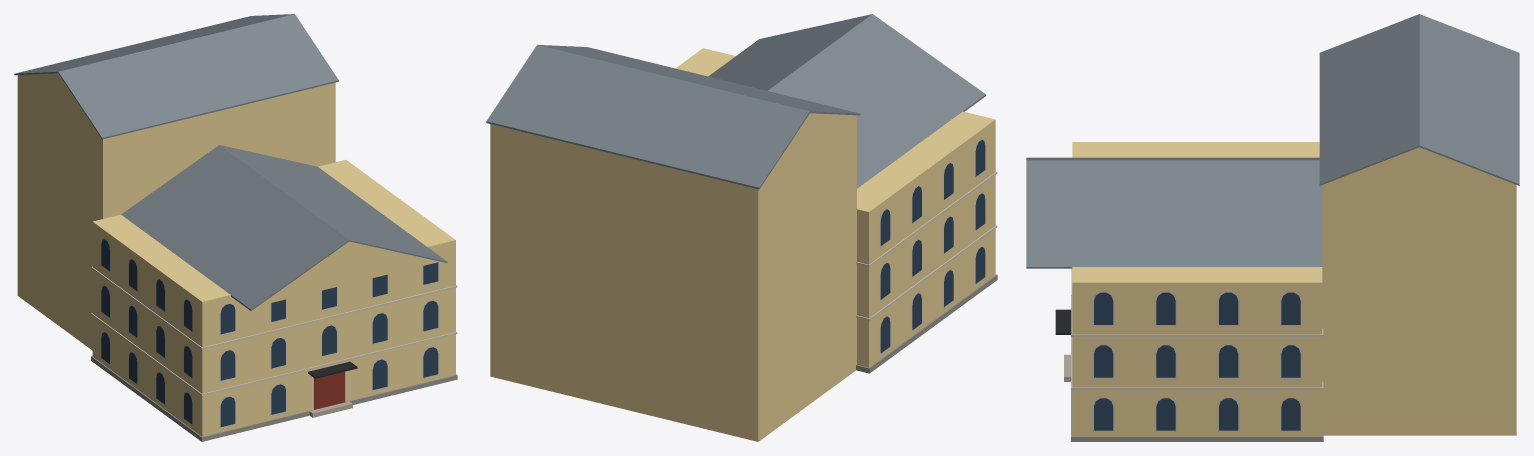
File: theatre.glb
3 views of the same model, side by side, from view 1: azimuth 30°, elevation 25°; view 2: azimuth 150°, elevation 25°; view 3: azimuth 270°, elevation 25° (orthographic). The views are drawn at different scales.
Visible parts, largest first — view 1: theatre; view 2: theatre; view 3: theatre.
Boxes of the visible parts, bbox=[...] form: theatre: bbox=[14, 14, 457, 441]; theatre: bbox=[486, 14, 997, 441]; theatre: bbox=[1026, 14, 1519, 441].
Size of the model in its own units: 24.2 by 23.14 by 35.5.
Materials: 1 (1 with a texture image).
